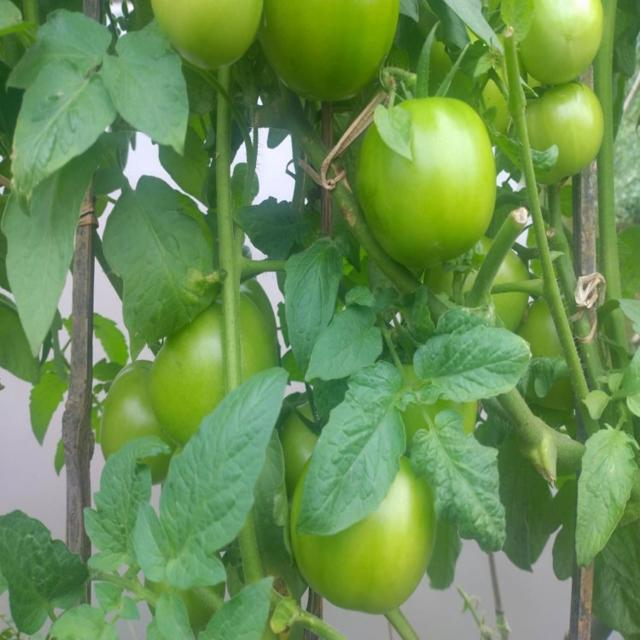tomato: (361, 108, 495, 264), (263, 1, 401, 95), (153, 314, 229, 425), (358, 482, 424, 605), (513, 1, 604, 84), (148, 1, 264, 65), (291, 532, 371, 604), (101, 364, 165, 449), (543, 90, 599, 180), (236, 290, 281, 382), (529, 299, 566, 372), (283, 403, 317, 468)
